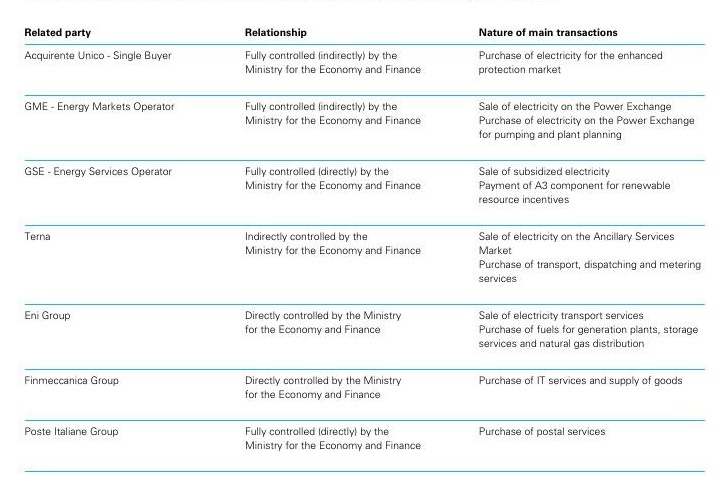table: (0, 0, 719, 488)
